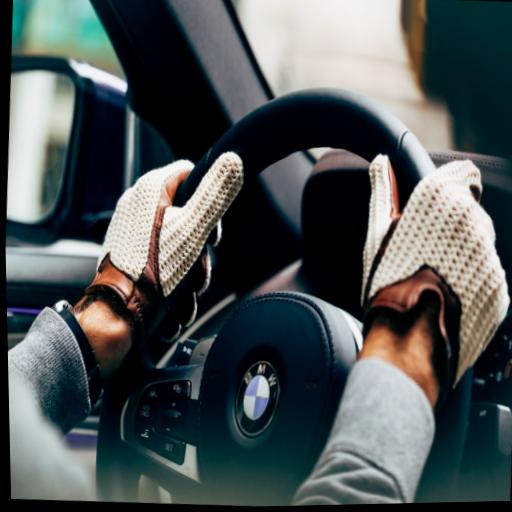Hands-on-the-Wheel: (327, 117, 512, 378), (85, 139, 262, 333)
